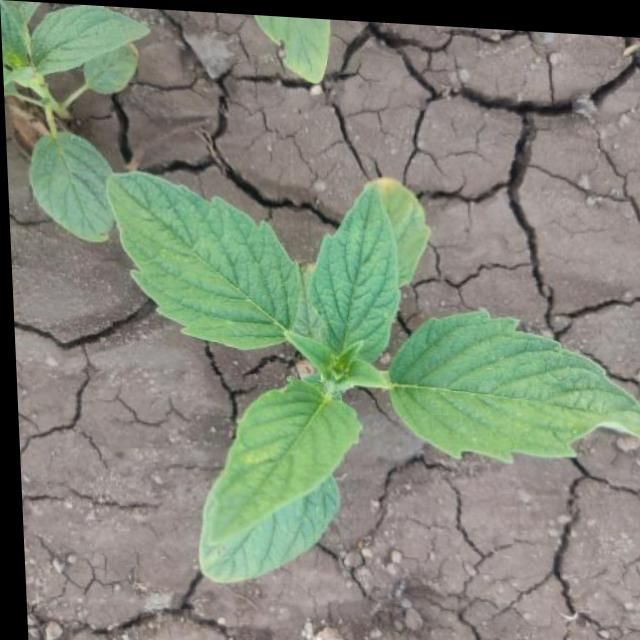crop: (94, 144, 640, 610)
